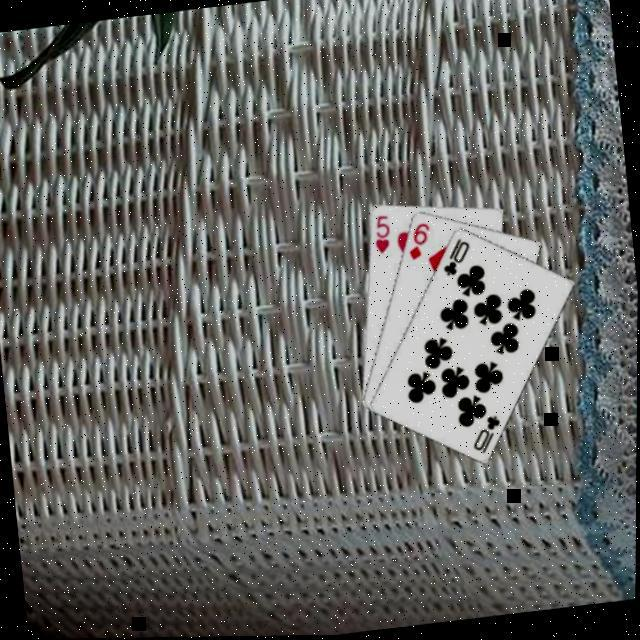10C: (438, 233, 476, 278), (468, 412, 506, 457)
5H: (370, 211, 394, 256)
6D: (404, 218, 436, 262)
